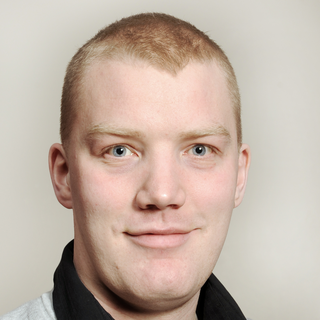eye: (96, 140, 144, 165), (180, 139, 226, 164)
